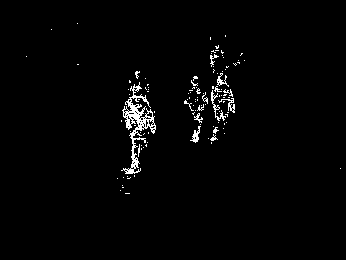person: (121, 83, 157, 178), (210, 73, 235, 145), (183, 74, 208, 144)
